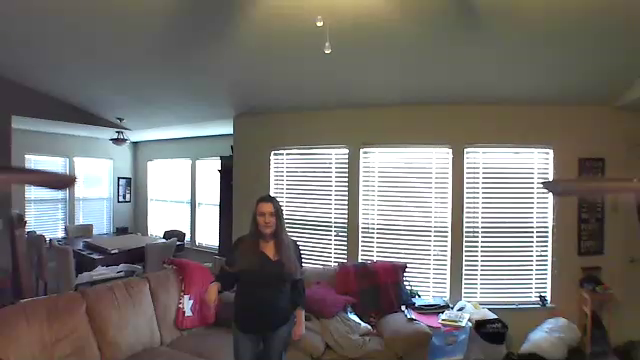down: (195, 274, 226, 317)
